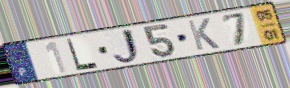1: (44, 41, 68, 74)
5: (140, 23, 177, 59)
7: (220, 11, 249, 47)
J: (111, 27, 145, 65)
K: (185, 17, 222, 52)
L: (65, 37, 100, 72)
